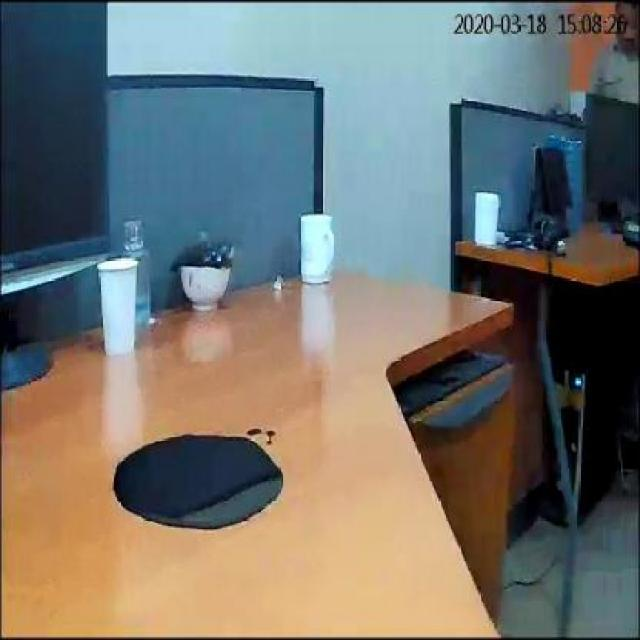spill: (111, 433, 284, 532)
